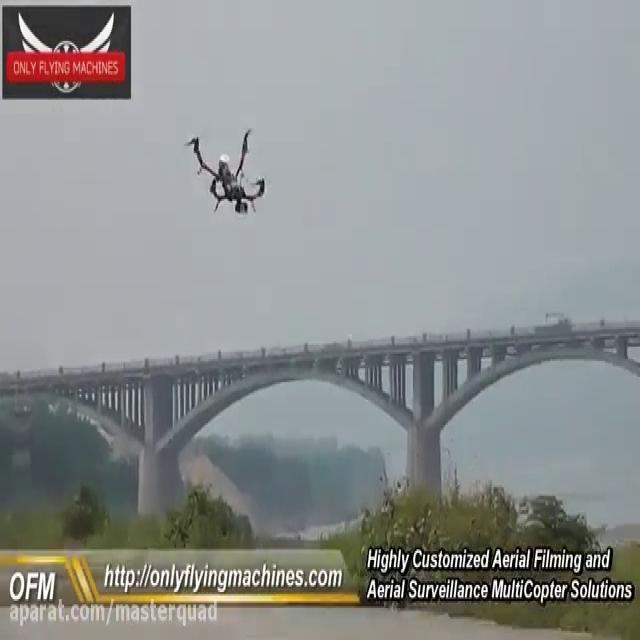drones: (181, 119, 269, 228)
